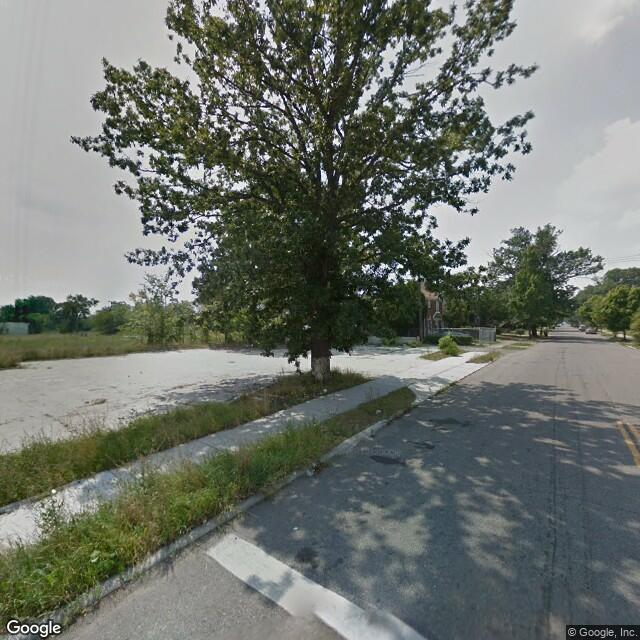litter: (303, 463, 324, 477), (319, 385, 332, 394), (373, 408, 385, 415)
